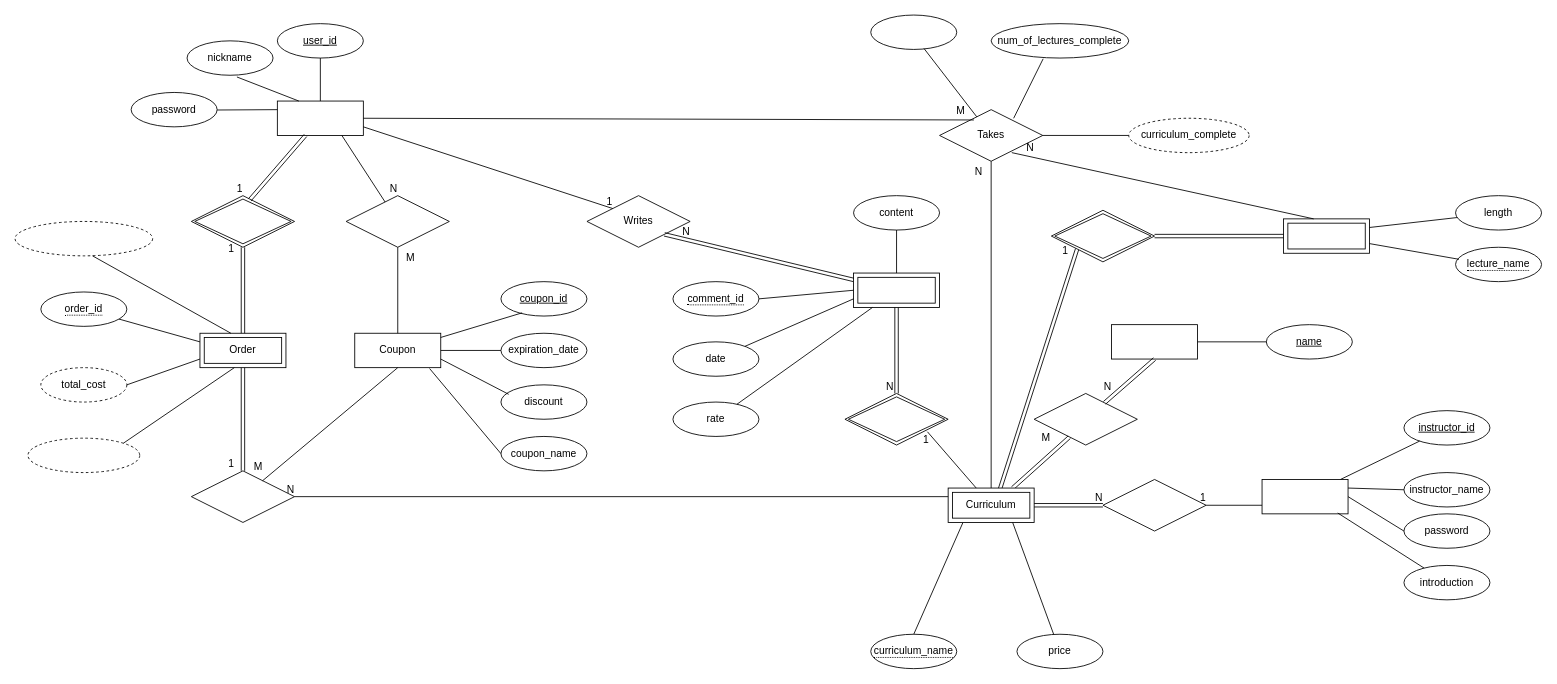
The diagram is 1557 pixels wide and 684 high, and some of its shapes have lost their labels. Each missing label, with the centre of its shape:
"Category" goes at [1154,341].
"Comment" goes at [896,289].
"Contains" goes at [896,419].
"discounted_total_cost" goes at [83,455].
"Falls_into" goes at [1085,419].
"Has" goes at [397,221].
"Includes" goes at [1102,235].
"Instructor" goes at [1304,496].
"last_studied_date" goes at [913,31].
"Lecture" goes at [1326,235].
"Offers" goes at [1154,505].
"Places" goes at [242,221].
"Puts_Into_Cart" goes at [242,496].
"total_discount_percentage" goes at [83,238].
"User" goes at [319,117].
